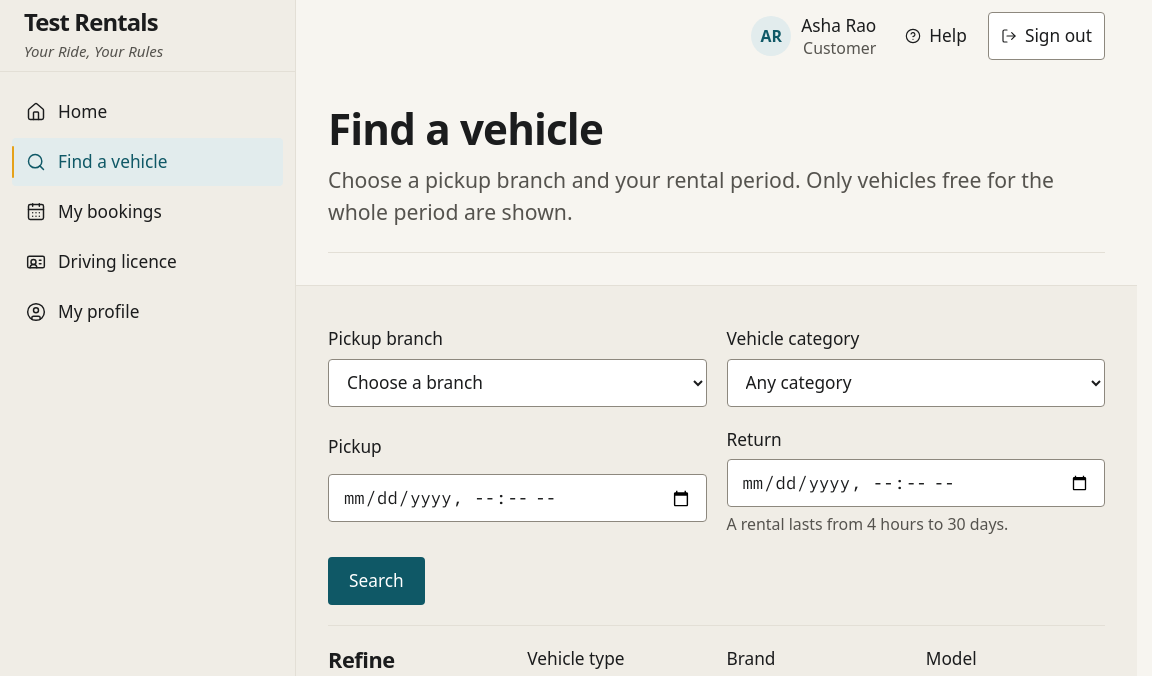
Test case: vehicle search (Search.Available) › refuses to search when the return is before the pickup (BR-5)
Step 1. Select "Andheri" in the dropdown labelled "Pickup branch" → (517, 383), box [328,359,706,407]
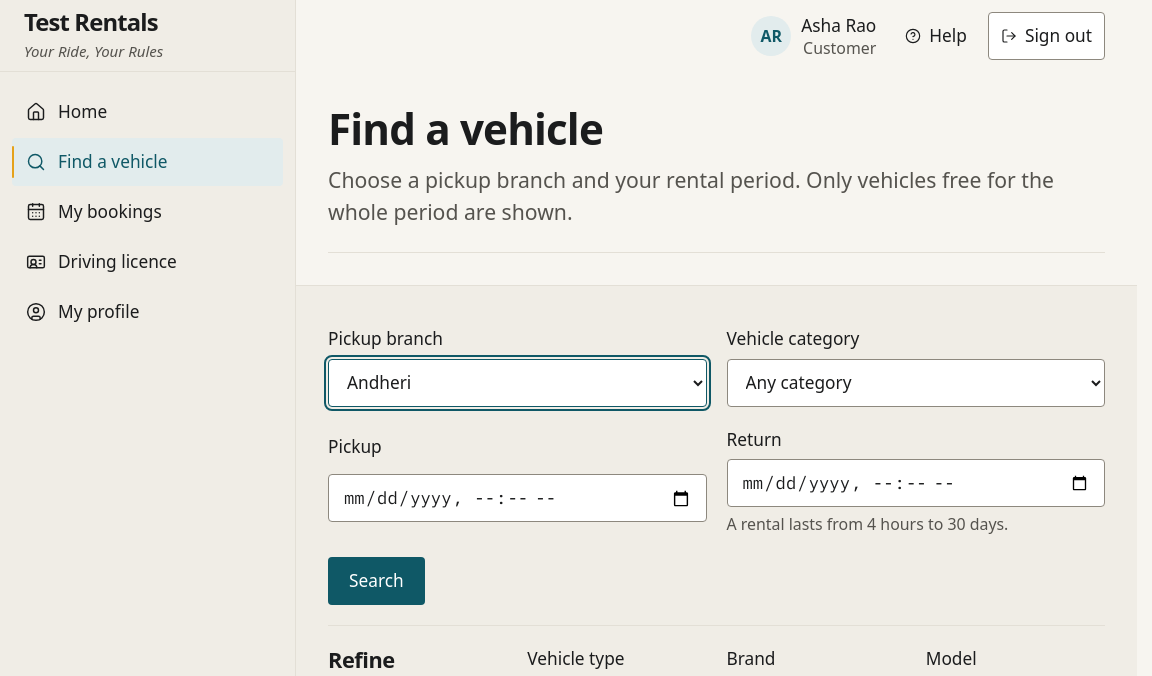
Step 2. Type "2027-01-10T10:00" into the field labelled "Pickup" → (517, 498), box [328,474,706,522]
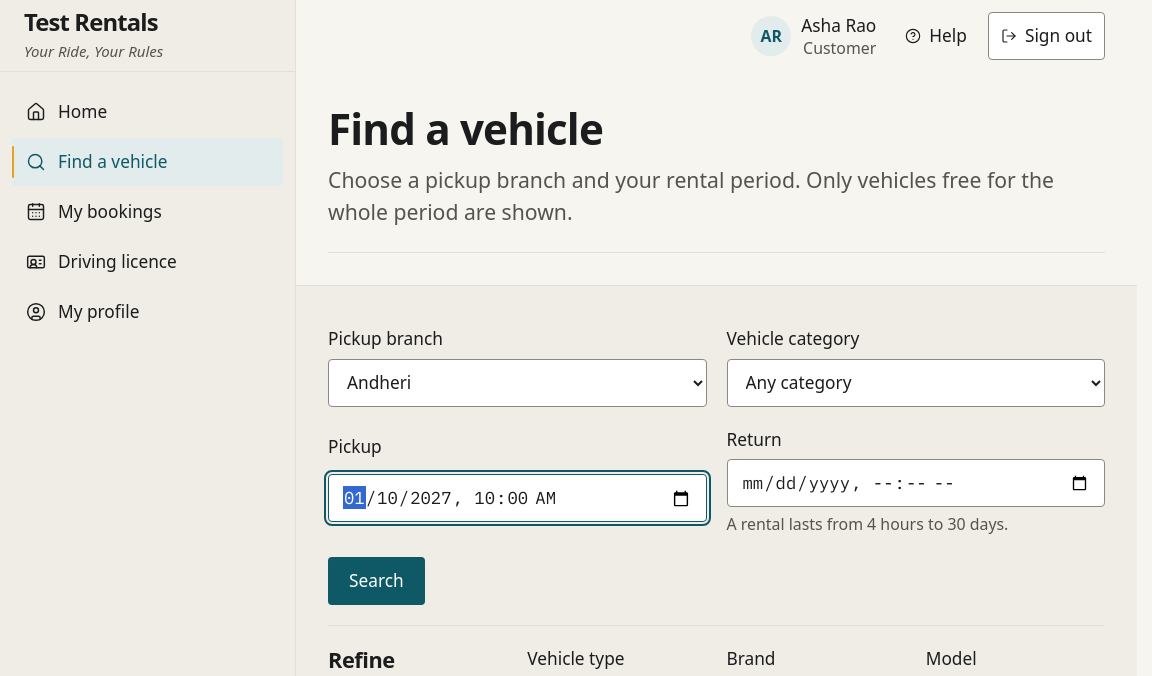
Step 3. Type "2027-01-10T09:00" into the field labelled "Return" → (916, 483), box [726,459,1105,507]
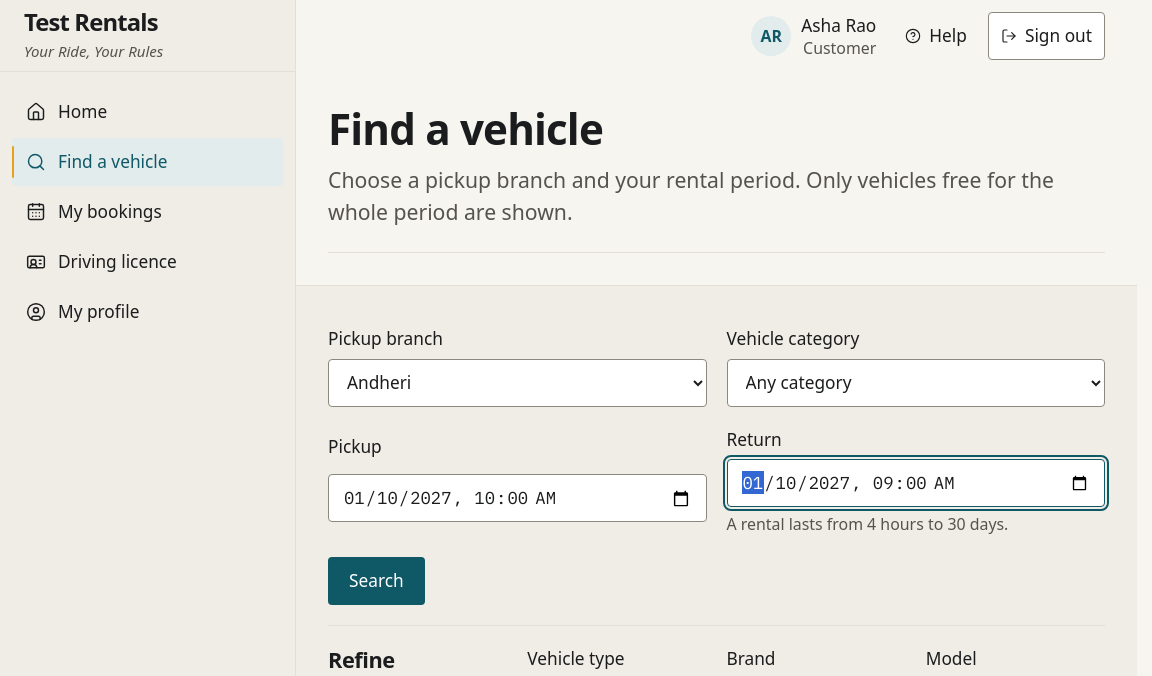
Step 4. Click the button "Search" → click(376, 581), box [328,557,425,605]
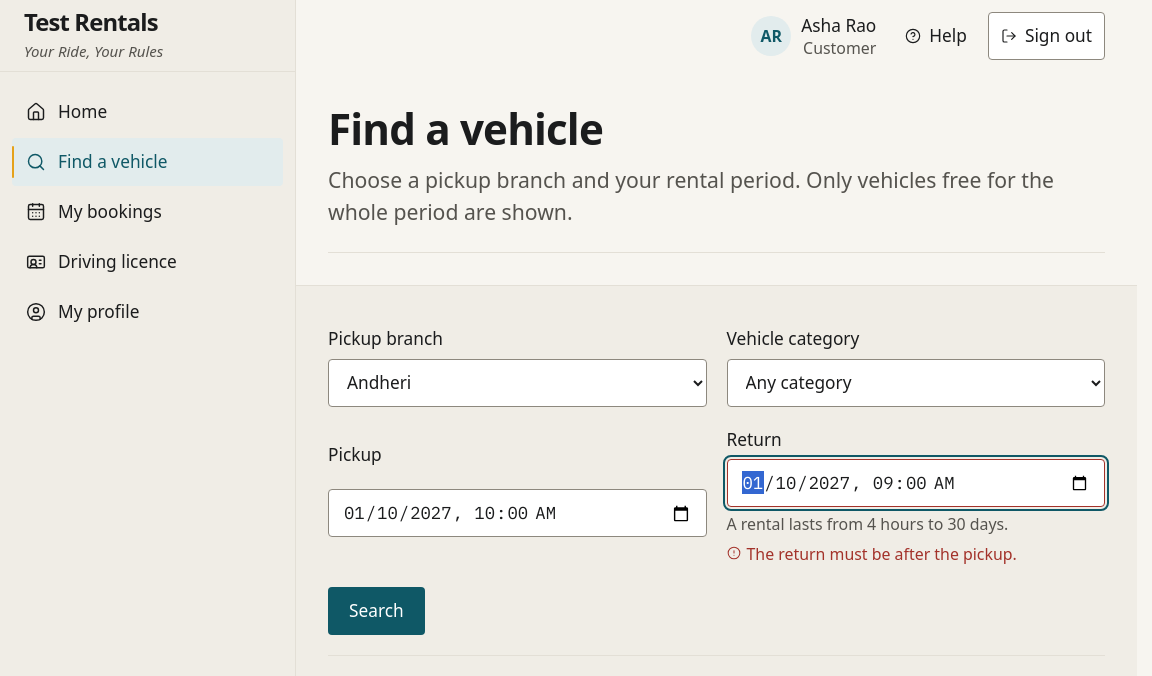
Expected: the text "The return must be after the pickup." is shown, [746,543,1017,567]
